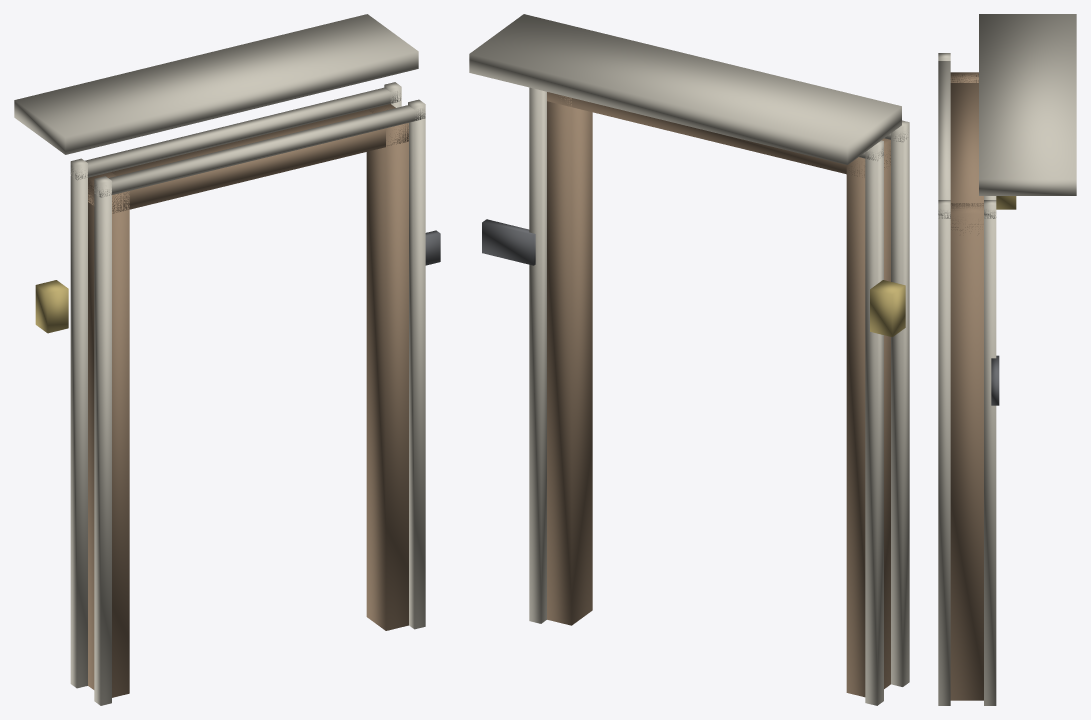
File: doorway_motel_w122_h220_d16.glb
3 views of the same model, side by side, from view 1: azimuth 30°, elevation 25°; view 2: azimuth 150°, elevation 25°; view 3: azimuth 270°, elevation 25° (orthographic). The views are drawn at different scales.
Visible parts, largest first — view 1: world; view 2: world; view 3: world.
Part boxes in pixels (<box>): world: <box>14,14,440,705</box>; world: <box>469,14,909,705</box>; world: <box>938,14,1076,705</box>.
Size of the model in its own units: 1.86 by 2.53 by 0.5948.
